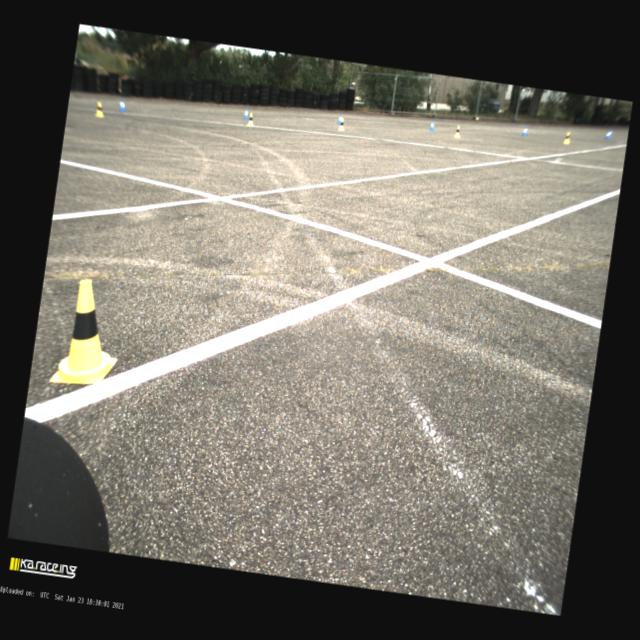blue_cone: (604, 128, 613, 140), (120, 100, 128, 112), (243, 108, 250, 120), (430, 120, 436, 132), (522, 125, 528, 136), (337, 114, 342, 125)
yellow_cone: (50, 276, 128, 391), (95, 102, 106, 118), (246, 112, 255, 127), (338, 117, 346, 131), (454, 125, 462, 138), (563, 132, 571, 144)
